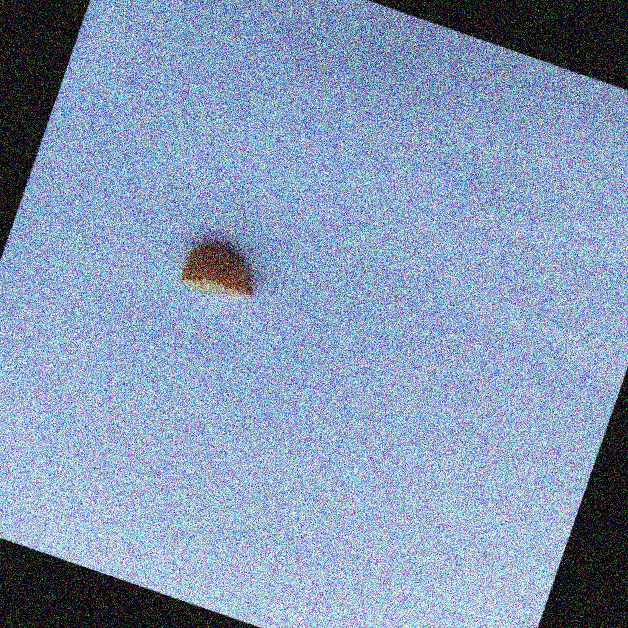grade4: (170, 228, 275, 315)
